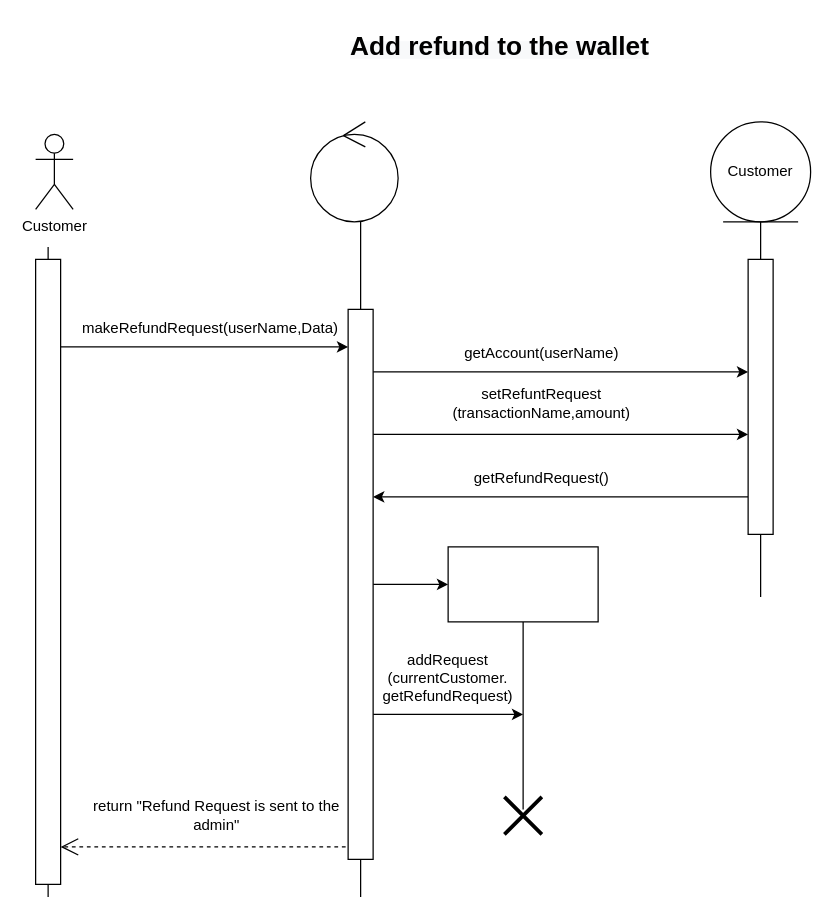
The diagram is 833 pixels wide and 920 high, and some of its shapes have lost their labels. Each missing label, with the centre of its shape:
"MakingRefund" belongs at pixel 522 584.
"Refund Request Controller" belongs at pixel 353 171.
